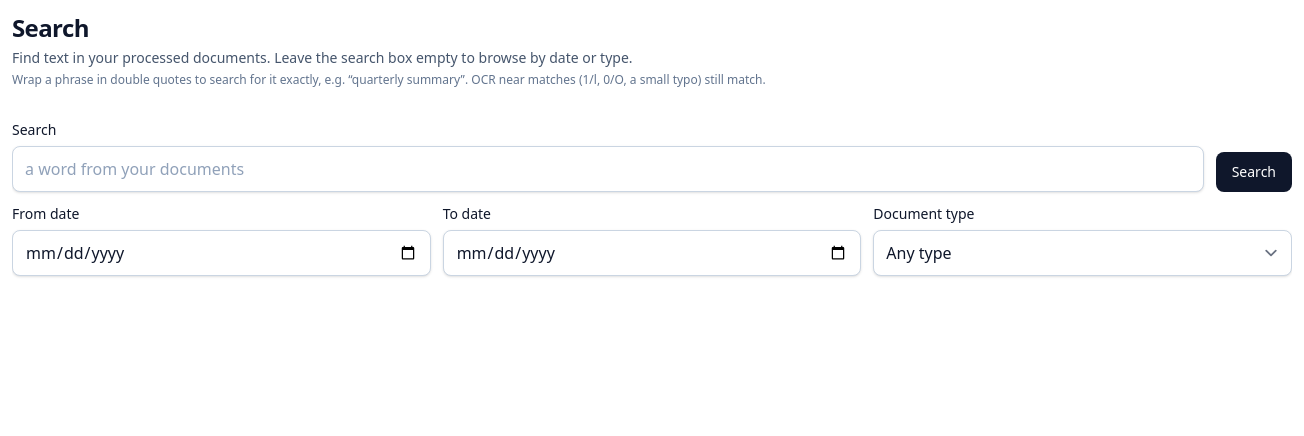
Scenario: flags an approximate OCR match with an "approx" badge
In the field labelled "Search": (608, 169) [12, 146, 1204, 192], type "2024"
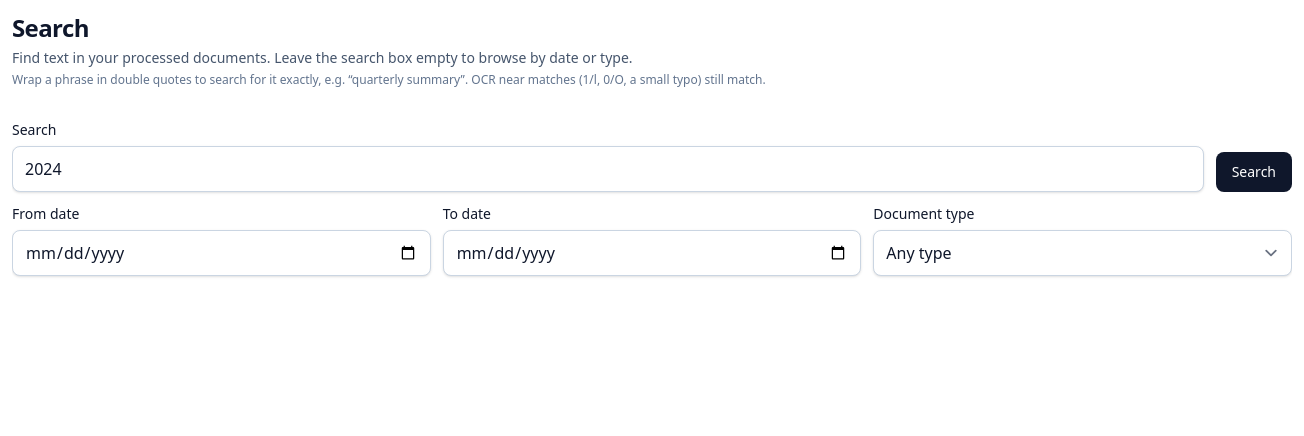
Click the button "Search": (1254, 172) [1216, 152, 1292, 192]
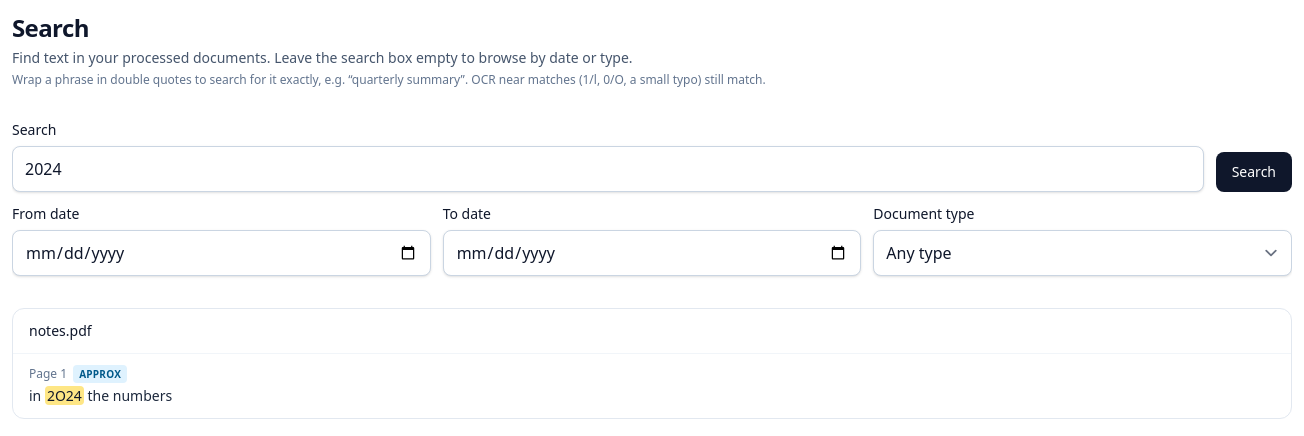
Expected: the text "approx" is shown, [73, 365, 127, 383]
